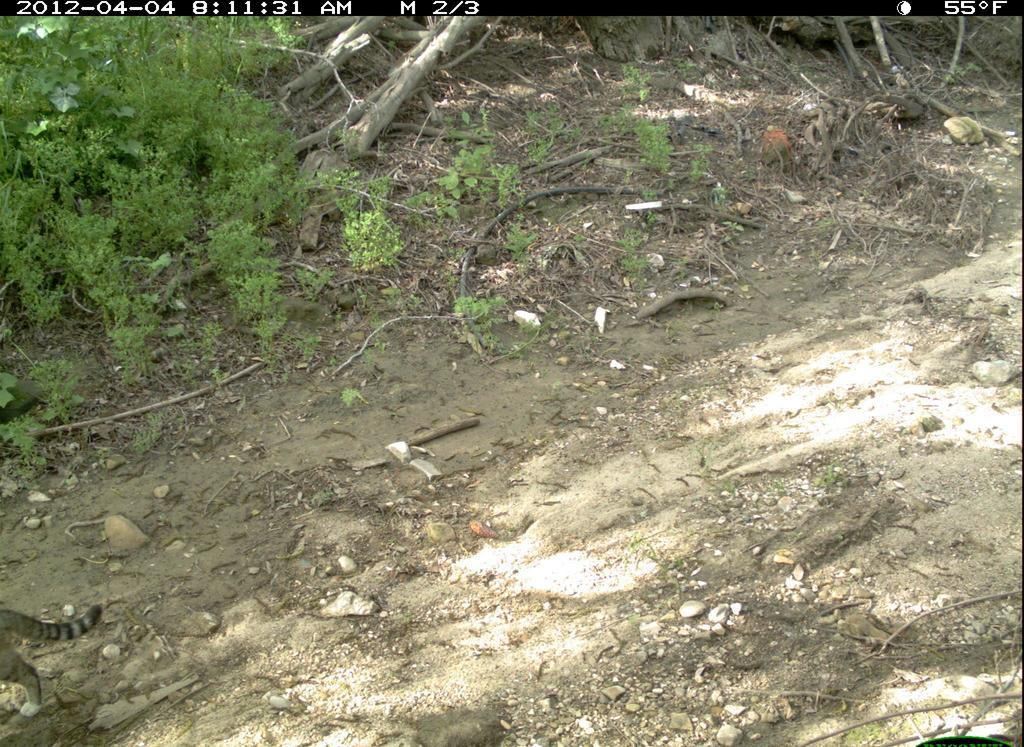cat: (3, 578, 113, 724)
